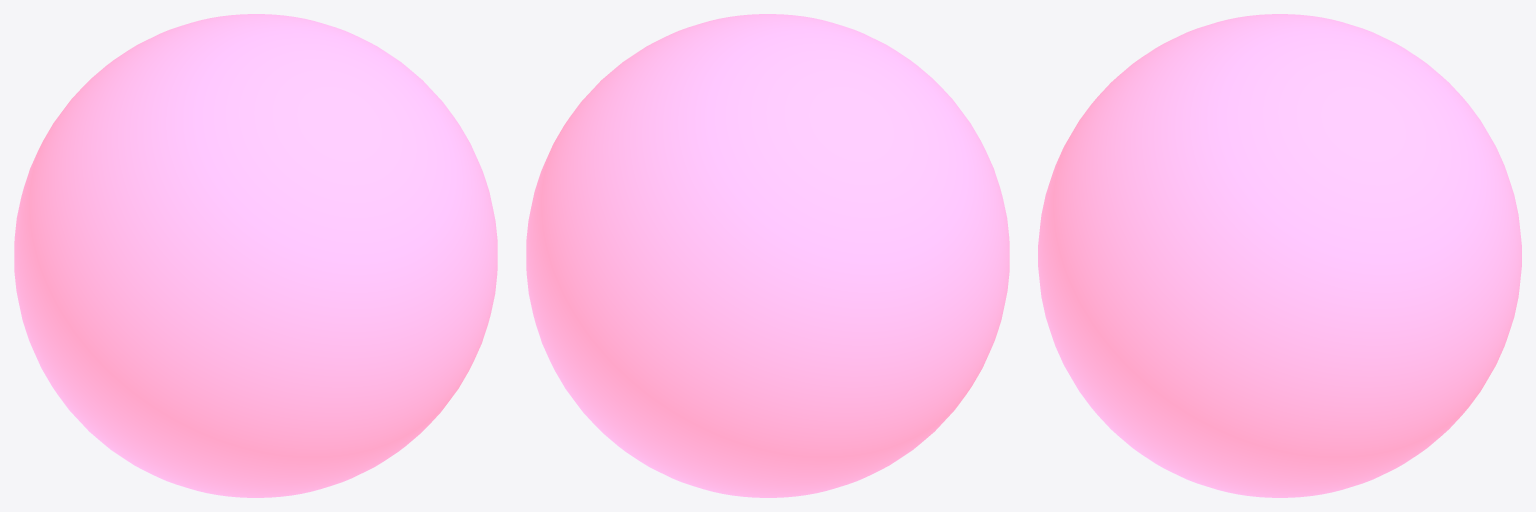
The model's file is item_collectible.glb.
The picture shows the model from 3 angles, left to right: view 1: azimuth 30°, elevation 25°; view 2: azimuth 150°, elevation 25°; view 3: azimuth 270°, elevation 25°; orthographic projection.
Parts seen in each view (by area): view 1: MeshInstance3D; view 2: MeshInstance3D; view 3: MeshInstance3D.
Boxes of the visible parts, x1,y1,x2,y2 form: MeshInstance3D: (14, 14, 497, 497); MeshInstance3D: (526, 14, 1009, 497); MeshInstance3D: (1038, 14, 1521, 497).
Bounding box in the file's own units: 0.4994 × 0.5 × 0.4994.
